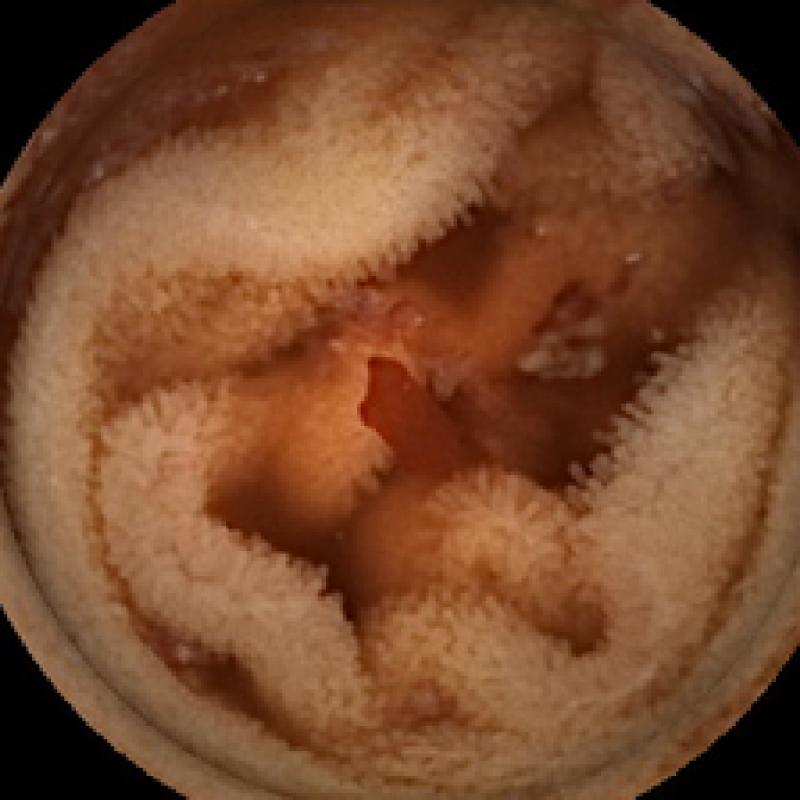bleeding: (350, 343, 500, 486)
